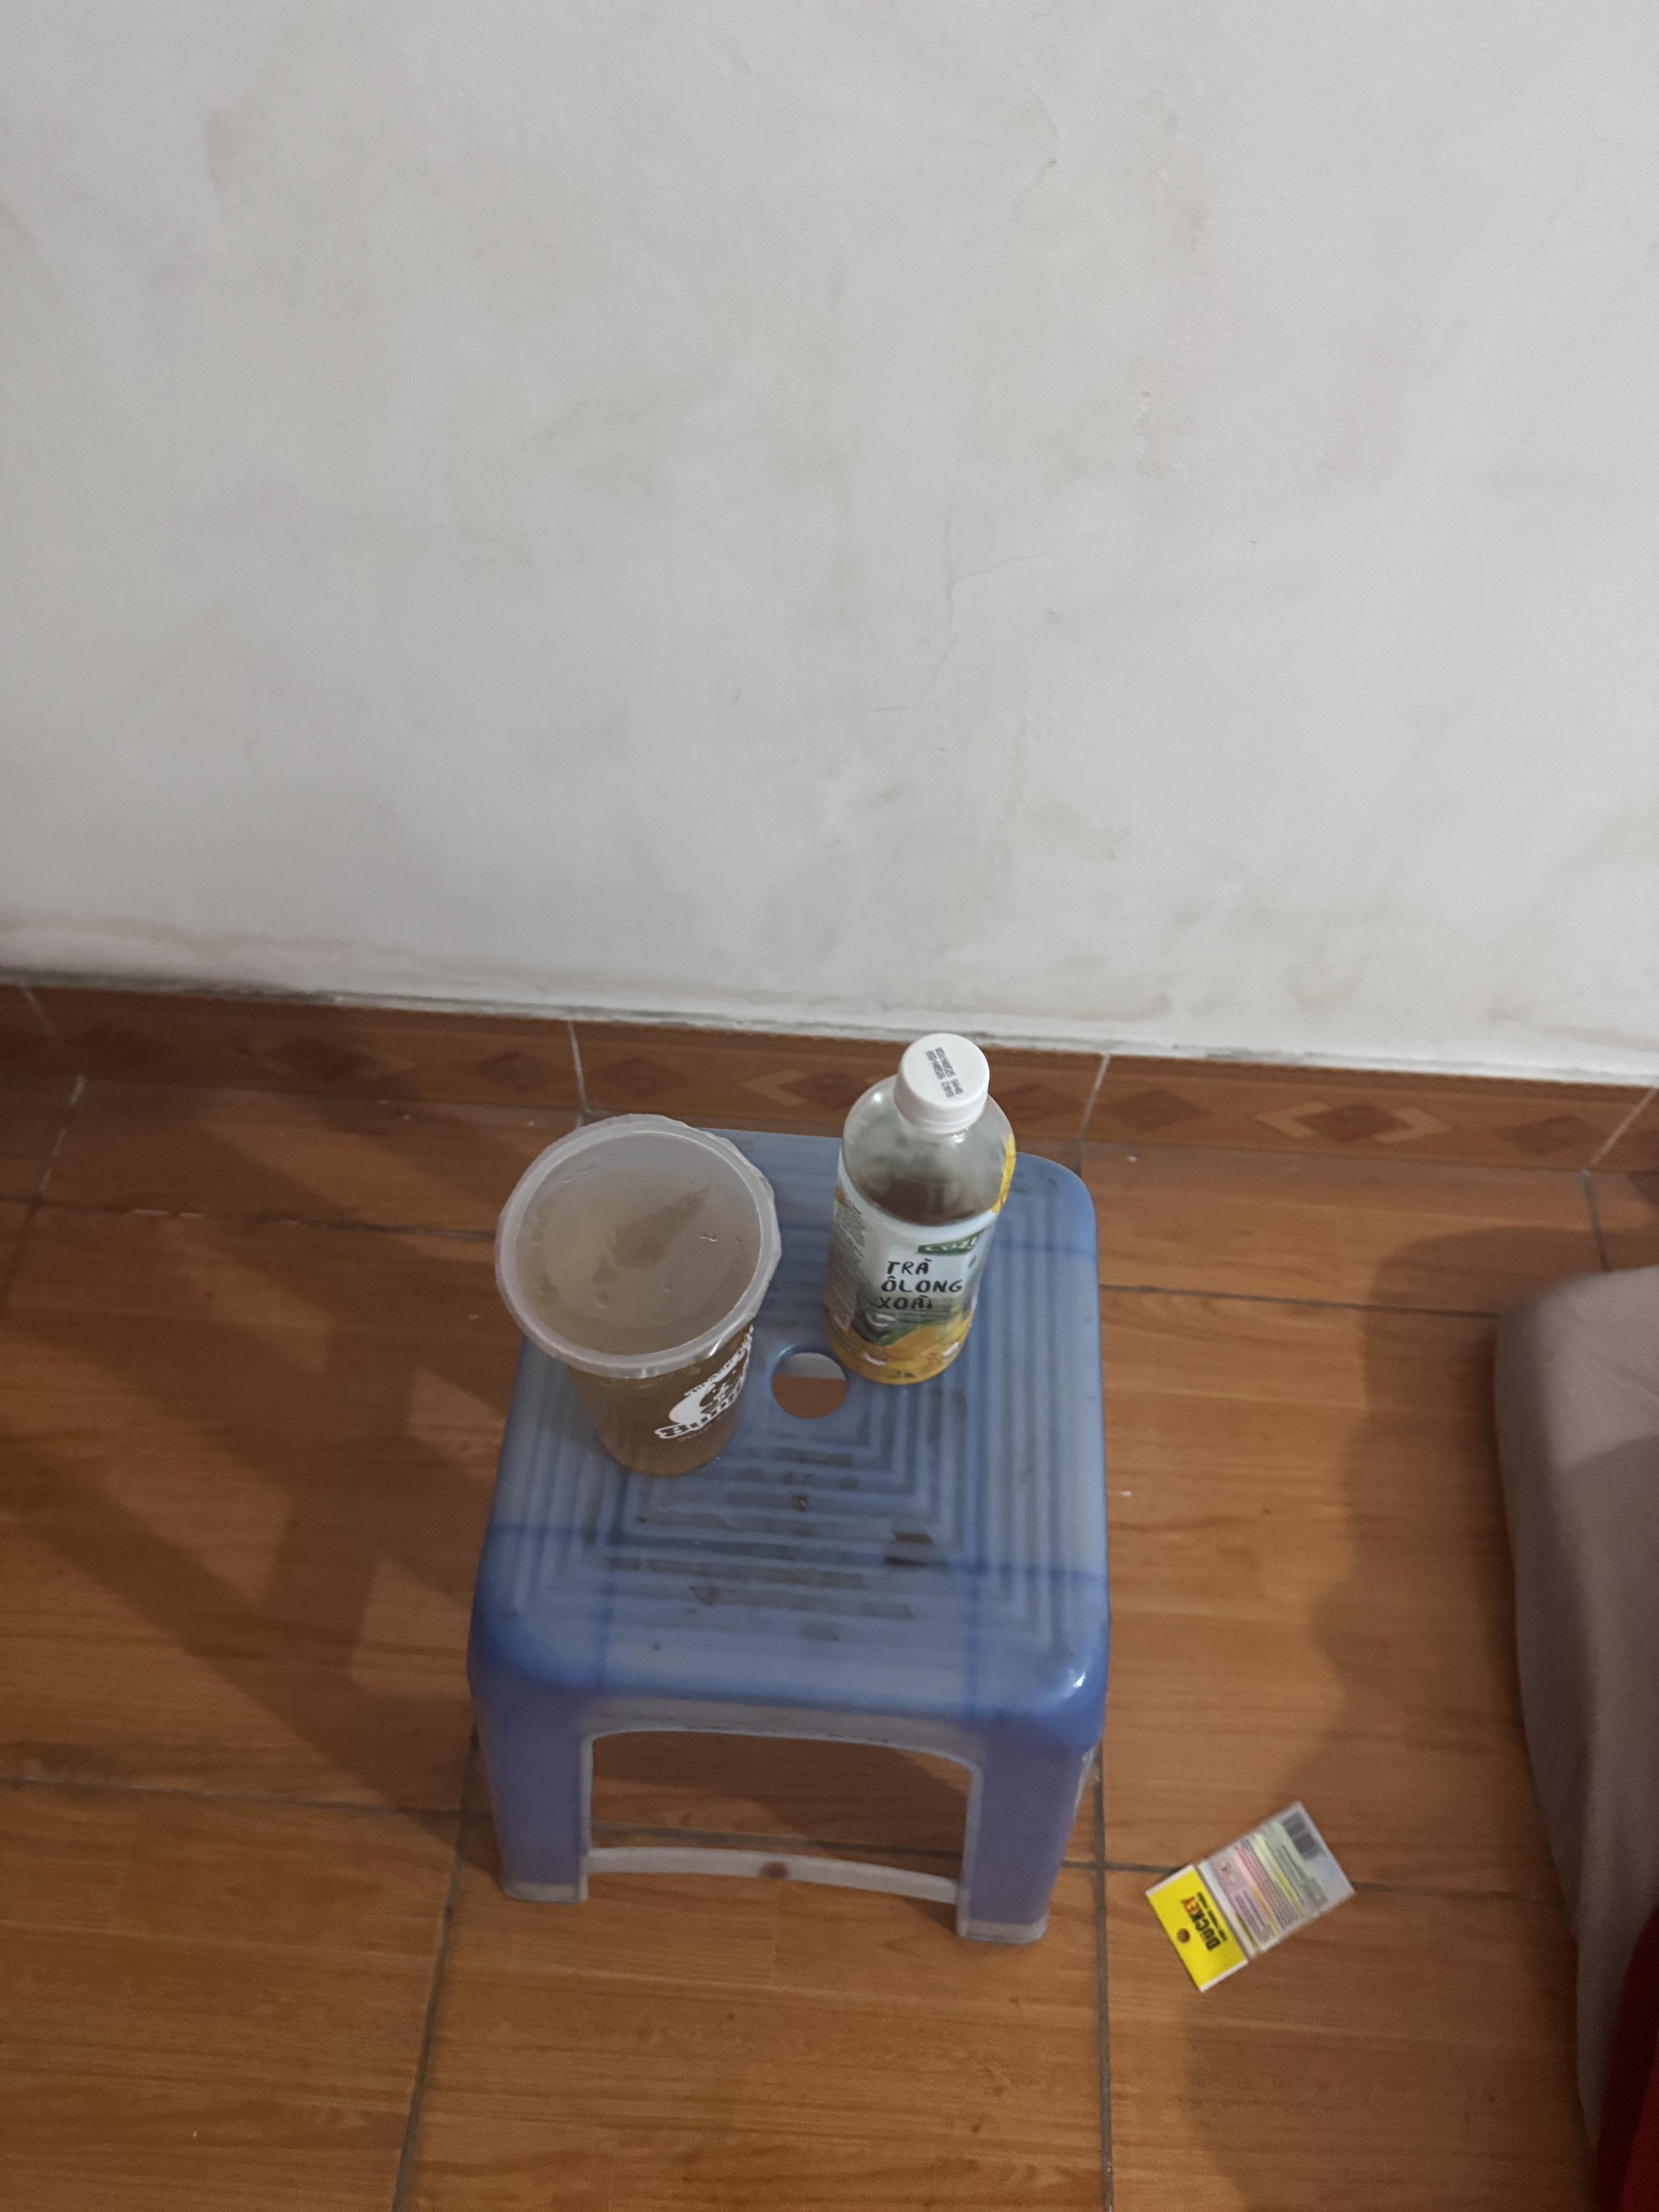bottle: (817, 1031, 1021, 1397)
cup: (481, 1106, 791, 1491)
